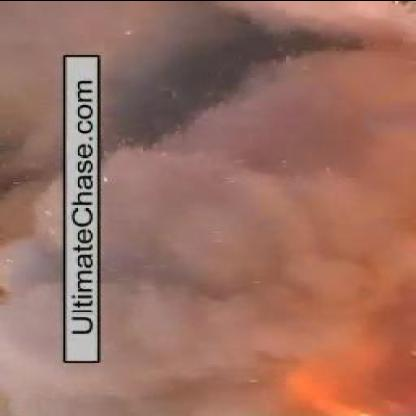-: (106, 33, 340, 409), (2, 60, 58, 402)
